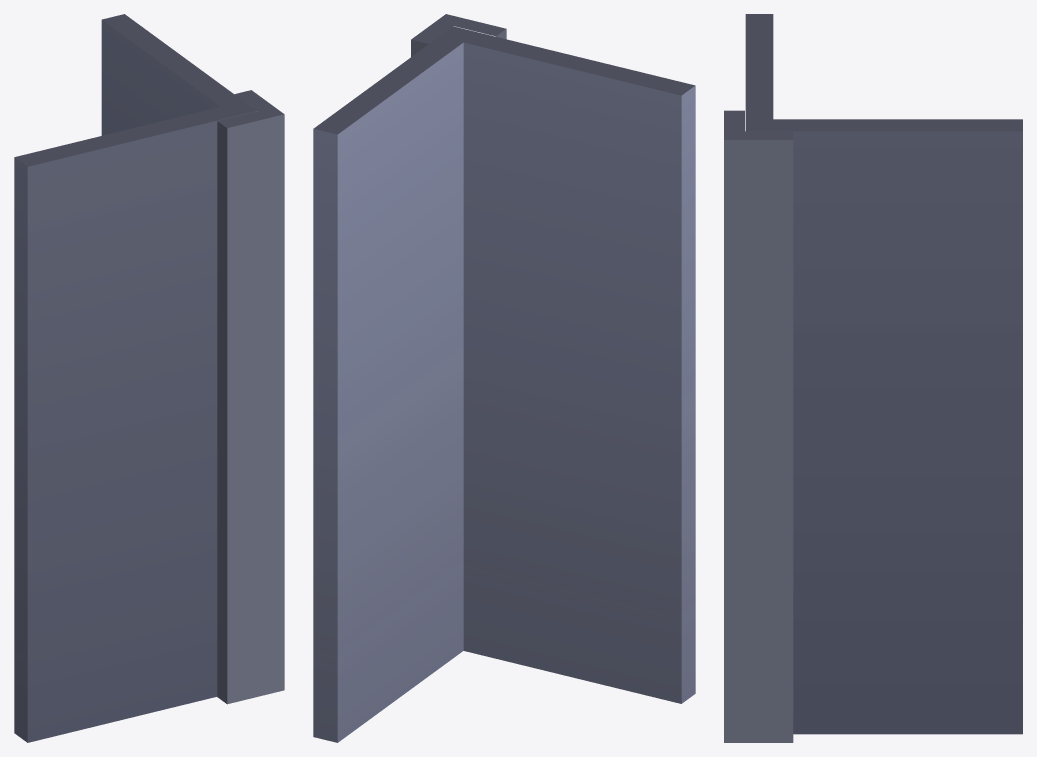
The model's file is kenney-building-wall-corner-column-small.glb.
3 views of the same model, side by side, from view 1: azimuth 30°, elevation 25°; view 2: azimuth 150°, elevation 25°; view 3: azimuth 270°, elevation 25° (orthographic). The views are drawn at different scales.
Parts seen in each view (by area): view 1: wall-corner-column-small; view 2: wall-corner-column-small; view 3: wall-corner-column-small.
Part boxes in pixels (bbox=[...]): wall-corner-column-small: bbox=[14, 14, 284, 742]; wall-corner-column-small: bbox=[313, 14, 695, 742]; wall-corner-column-small: bbox=[724, 14, 1022, 742].
Size of the model in its own units: 1.08 by 2.4 by 1.08.
1 material, 1 textured.
